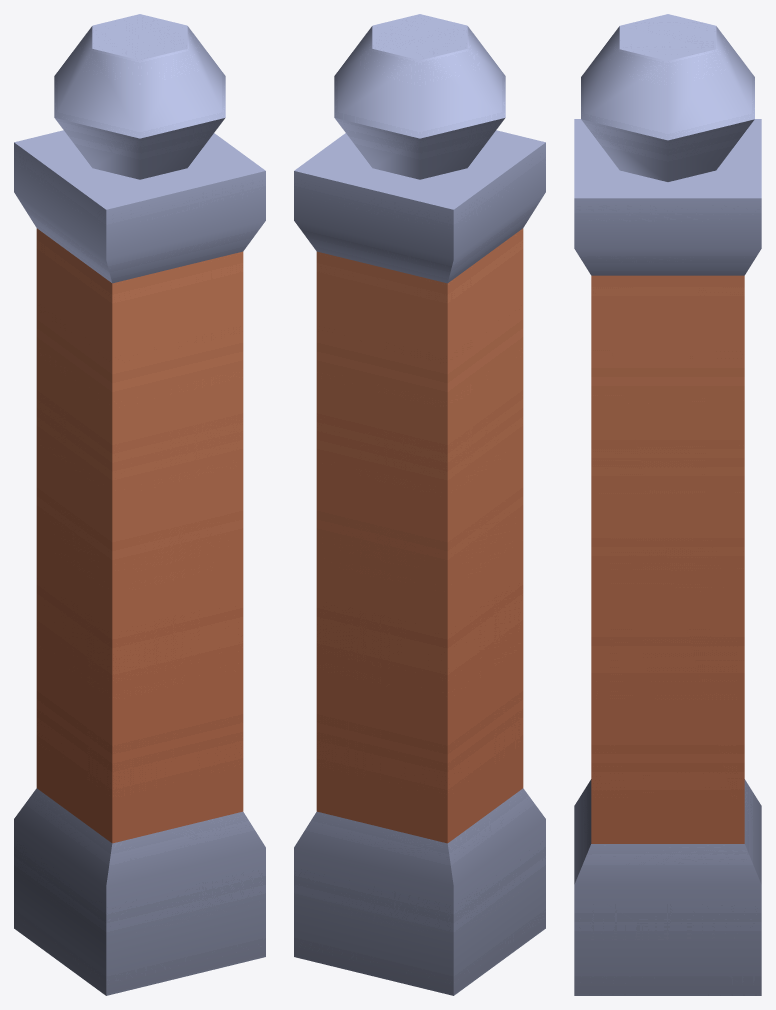
Rendered from pillar-large.glb.
3 renders of one model, left to right at view 1: azimuth 30°, elevation 25°; view 2: azimuth 150°, elevation 25°; view 3: azimuth 270°, elevation 25°, orthographic.
Parts seen in each view (by area): view 1: pillar-large; view 2: pillar-large; view 3: pillar-large.
Boxes of the visible parts, x1,y1,x2,y2 form: pillar-large: (14, 14, 265, 995); pillar-large: (294, 14, 545, 995); pillar-large: (574, 14, 761, 995).
Size of the model in its own units: 0.54 by 2.73 by 0.504.
Materials: 1 (1 with a texture image).
